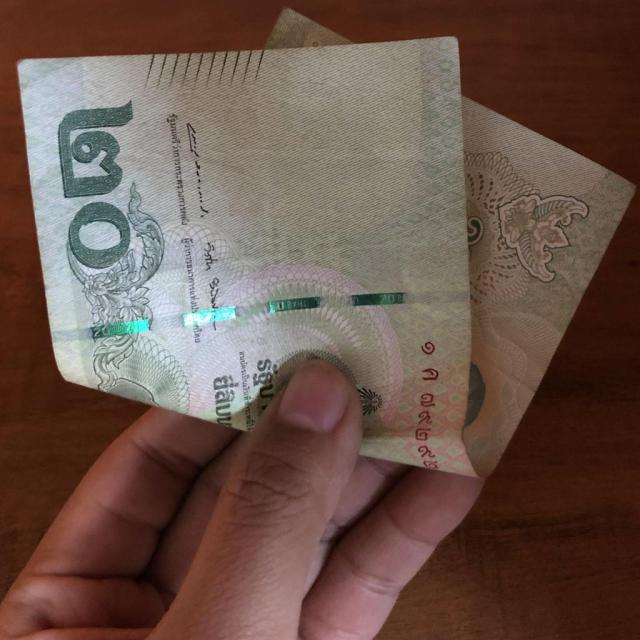THAI20: (18, 9, 634, 476)
